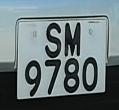0: (80, 56, 101, 94)
7: (42, 57, 65, 97)
8: (62, 56, 82, 95)
9: (22, 58, 45, 98)
M: (63, 19, 84, 58)
S: (42, 21, 64, 59)
